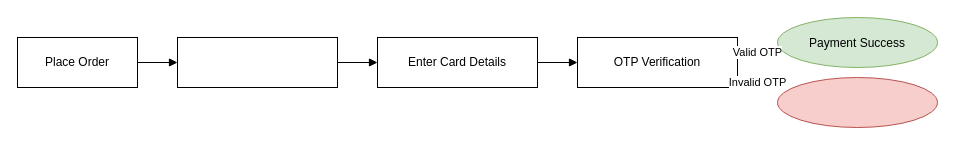
Image size: 955x145. Some labels were removed from this diagram. Each missing label, with the centre of its shape:
"Payment Failed / Retry" goes at pixel 857 102.
"Select Payment Method" goes at pixel 257 62.
